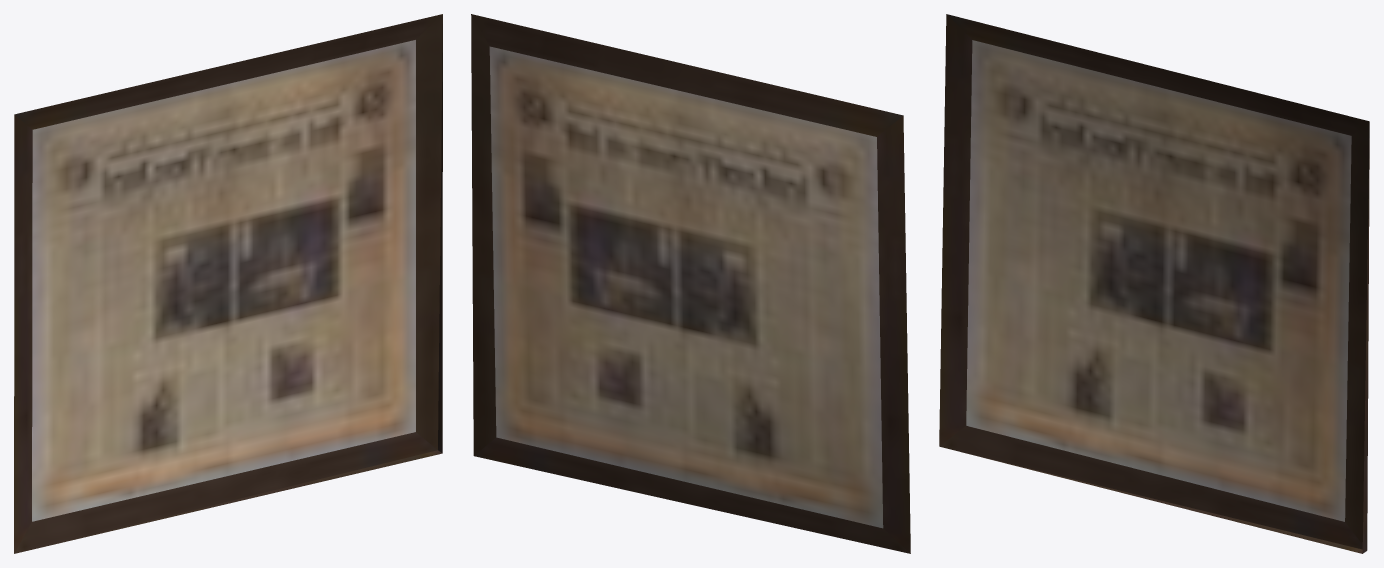
Rendered from picture-newspaper-2.lod1.glb.
3 renders of one model, left to right at view 1: azimuth 30°, elevation 25°; view 2: azimuth 150°, elevation 25°; view 3: azimuth 330°, elevation 25°, orthographic. The views are drawn at different scales.
Parts seen in each view (by area): view 1: picture-newspaper-2; view 2: picture-newspaper-2; view 3: picture-newspaper-2.
Part boxes in pixels (x1,y1,x2,y2): picture-newspaper-2: (14,14,442,553); picture-newspaper-2: (471,14,910,553); picture-newspaper-2: (939,14,1369,553).
Bounding box in the file's own units: 0.2658 × 0.2587 × 0.00829.
Materials: 1 (1 with a texture image).
